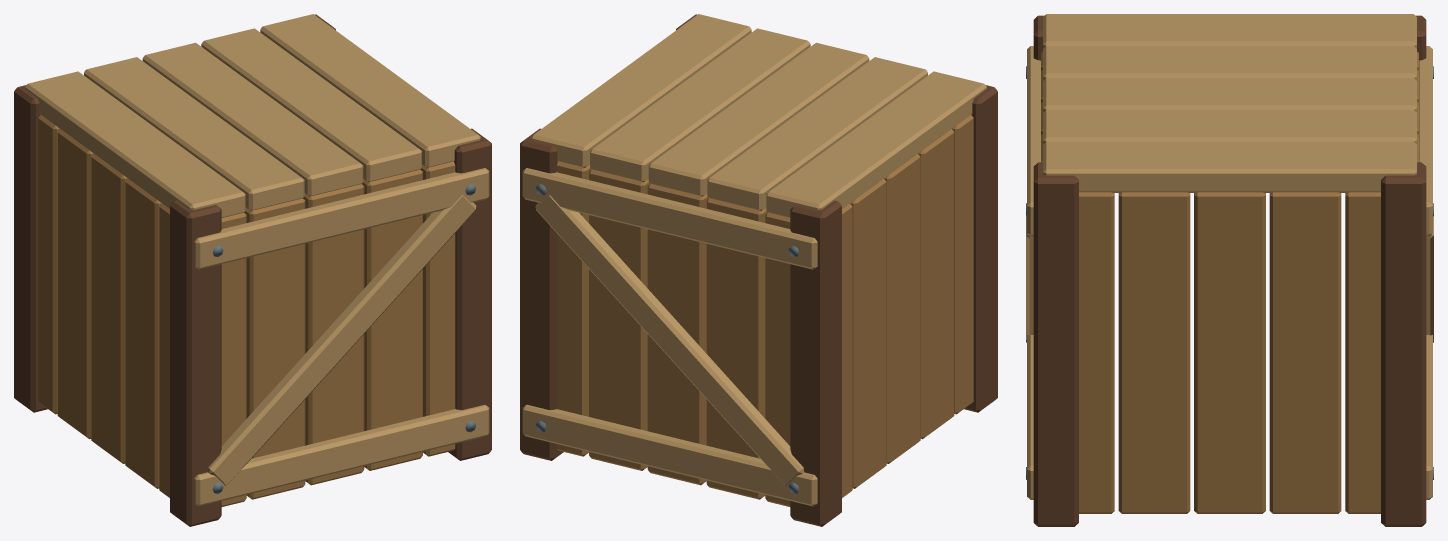
File: Crate.glb
3 renders of one model, left to right at view 1: azimuth 30°, elevation 25°; view 2: azimuth 150°, elevation 25°; view 3: azimuth 270°, elevation 25°, orthographic. The views are drawn at different scales.
Visible parts, largest first — view 1: Crate; view 2: Crate; view 3: Crate.
Part boxes in pixels (x1=…): Crate: x1=14, y1=14, x2=491, y2=526; Crate: x1=520, y1=14, x2=997, y2=526; Crate: x1=1026, y1=14, x2=1433, y2=526.
Bounding box in the file's own units: 1.04 × 1.03 × 1.08.
